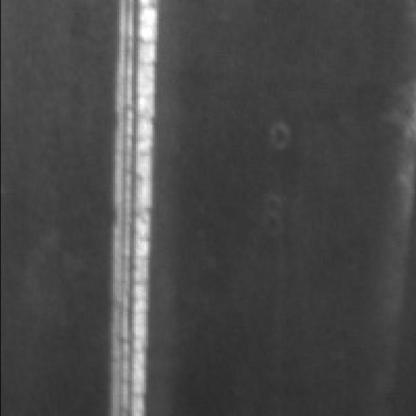scratches: (92, 2, 158, 416)
